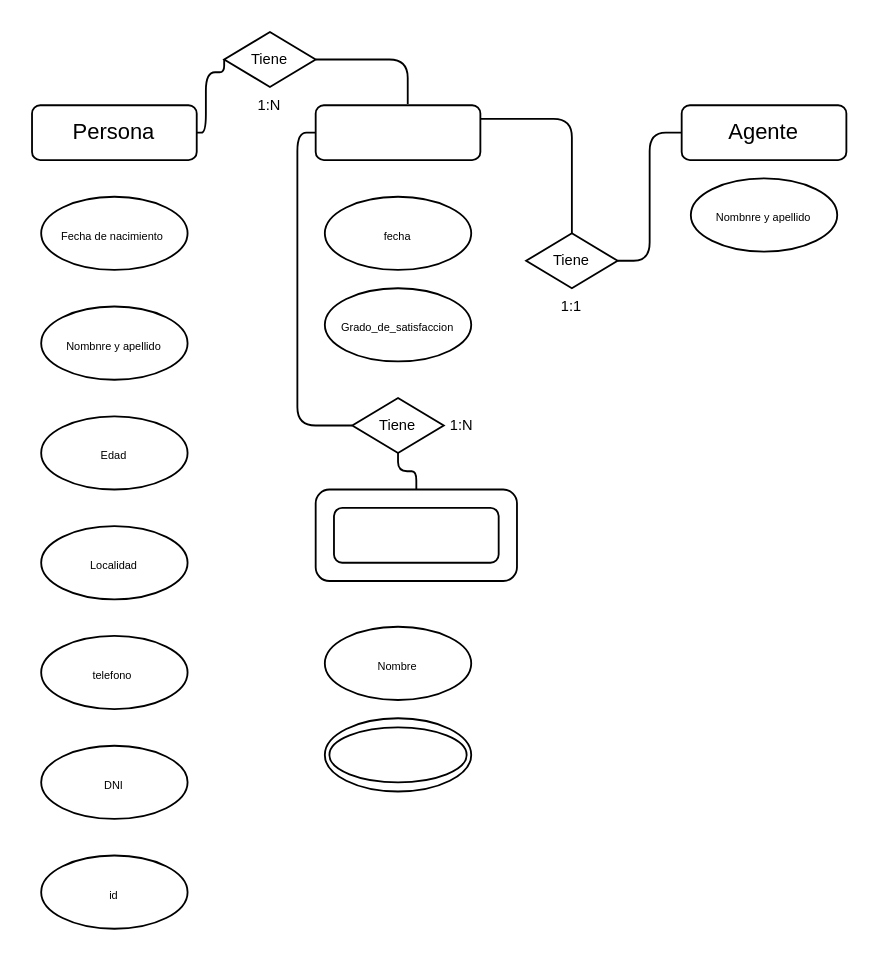
This 878x961 diagram has some shape labels left out. Here are the shapes that lost their labels. From the top down, the centre of each, then its label:
At [397,131]: "Consultas".
At [415,534]: "Beneficios".
At [397,754]: "Requisitos".
